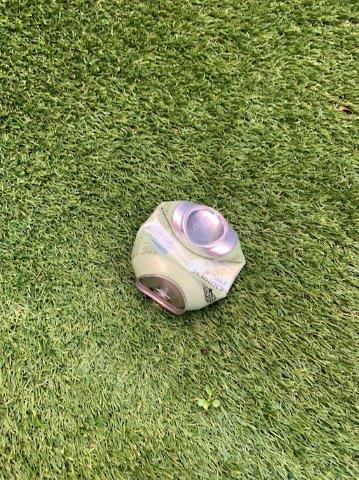kaleng: (132, 202, 245, 314)
